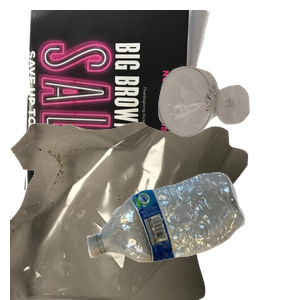glass: (156, 64, 300, 194)
paper: (22, 10, 225, 190)
plastic: (85, 170, 300, 300)
trash: (10, 120, 250, 300)
